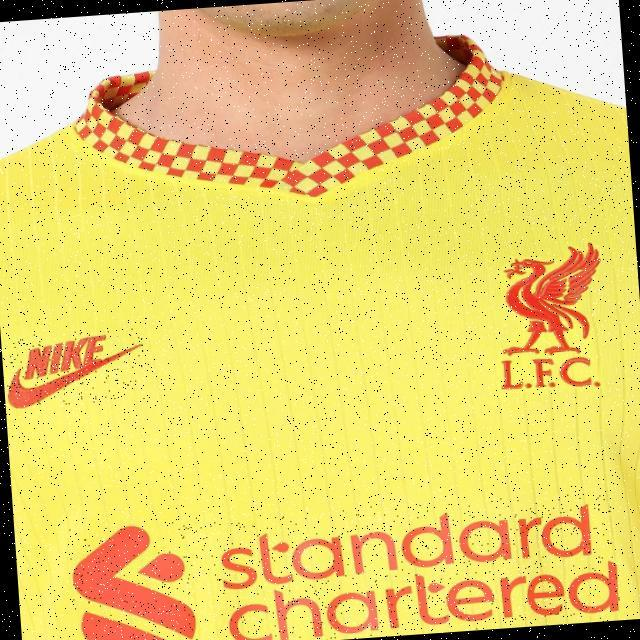Nike: (3, 326, 149, 409)
Standard Chartered: (67, 488, 620, 640)
